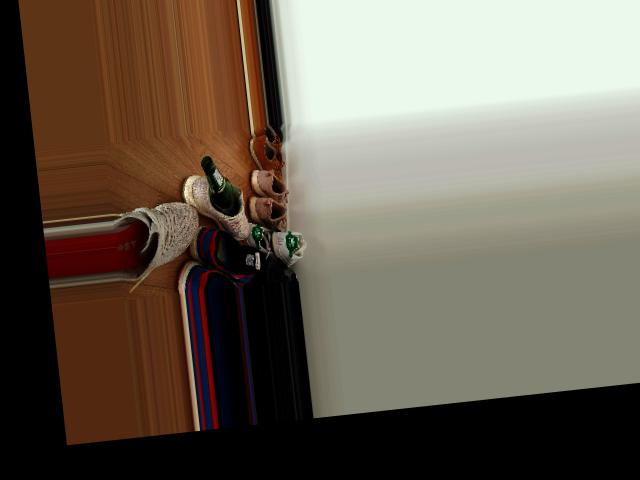beer: (200, 152, 240, 219)
